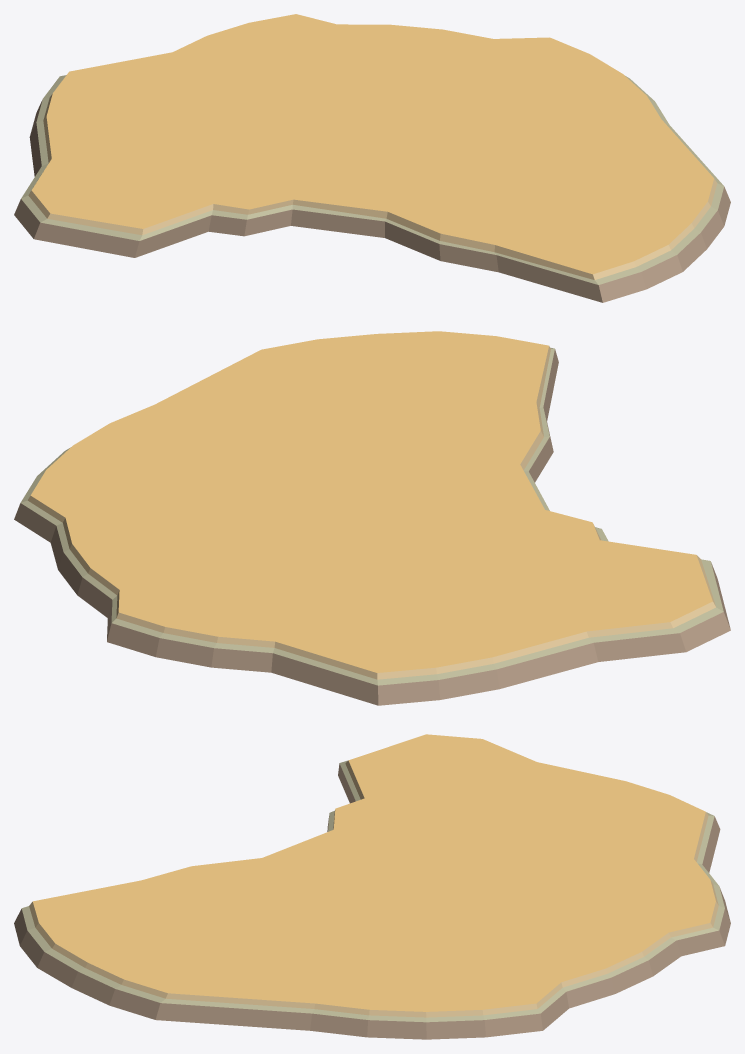
The model's file is groundPlatform1-brown.fbx.
3 views of the same model, one above another, from view 1: azimuth 30°, elevation 25°; view 2: azimuth 150°, elevation 25°; view 3: azimuth 270°, elevation 25° (orthographic). The views are drawn at different scales.
Visible parts, largest first — view 1: Cylinder; view 2: Cylinder; view 3: Cylinder.
Boxes of the visible parts, box(x1,y1,x2,y2) form: Cylinder: box(14, 14, 730, 302); Cylinder: box(14, 331, 730, 705); Cylinder: box(14, 734, 730, 1039).
Bounding box in the file's own units: 1046 × 36.36 × 1087.
